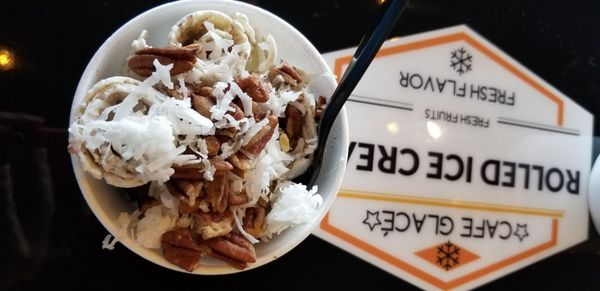sushi: (67, 1, 340, 270)
